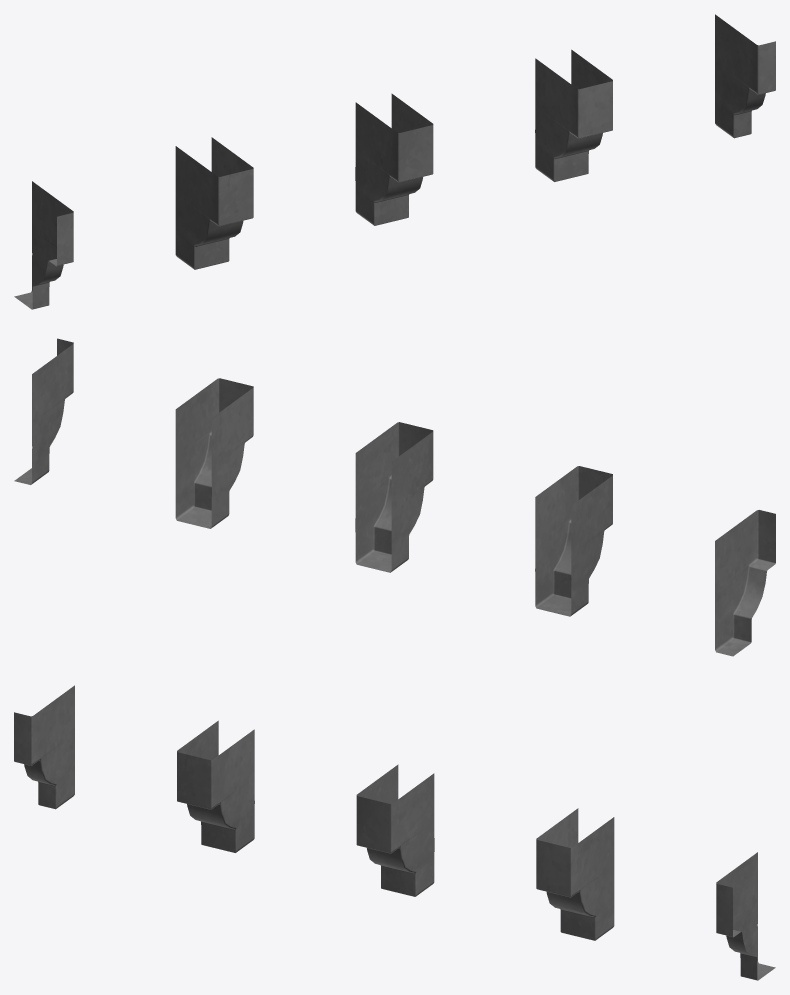
File: TrimV4.fbx
The picture shows the model from 3 angles, top to bottom: view 1: azimuth 30°, elevation 25°; view 2: azimuth 150°, elevation 25°; view 3: azimuth 330°, elevation 25°; orthographic projection.
Parts seen in each view (by area): view 1: TrimV4; view 2: TrimV4; view 3: TrimV4.
Part boxes in pixels (bbox=[...]): TrimV4: bbox=[14, 14, 775, 309]; TrimV4: bbox=[14, 338, 775, 656]; TrimV4: bbox=[14, 685, 775, 980].
Size of the model in its own units: 500 by 73.92 by 51.66.
1 material, 1 textured.
